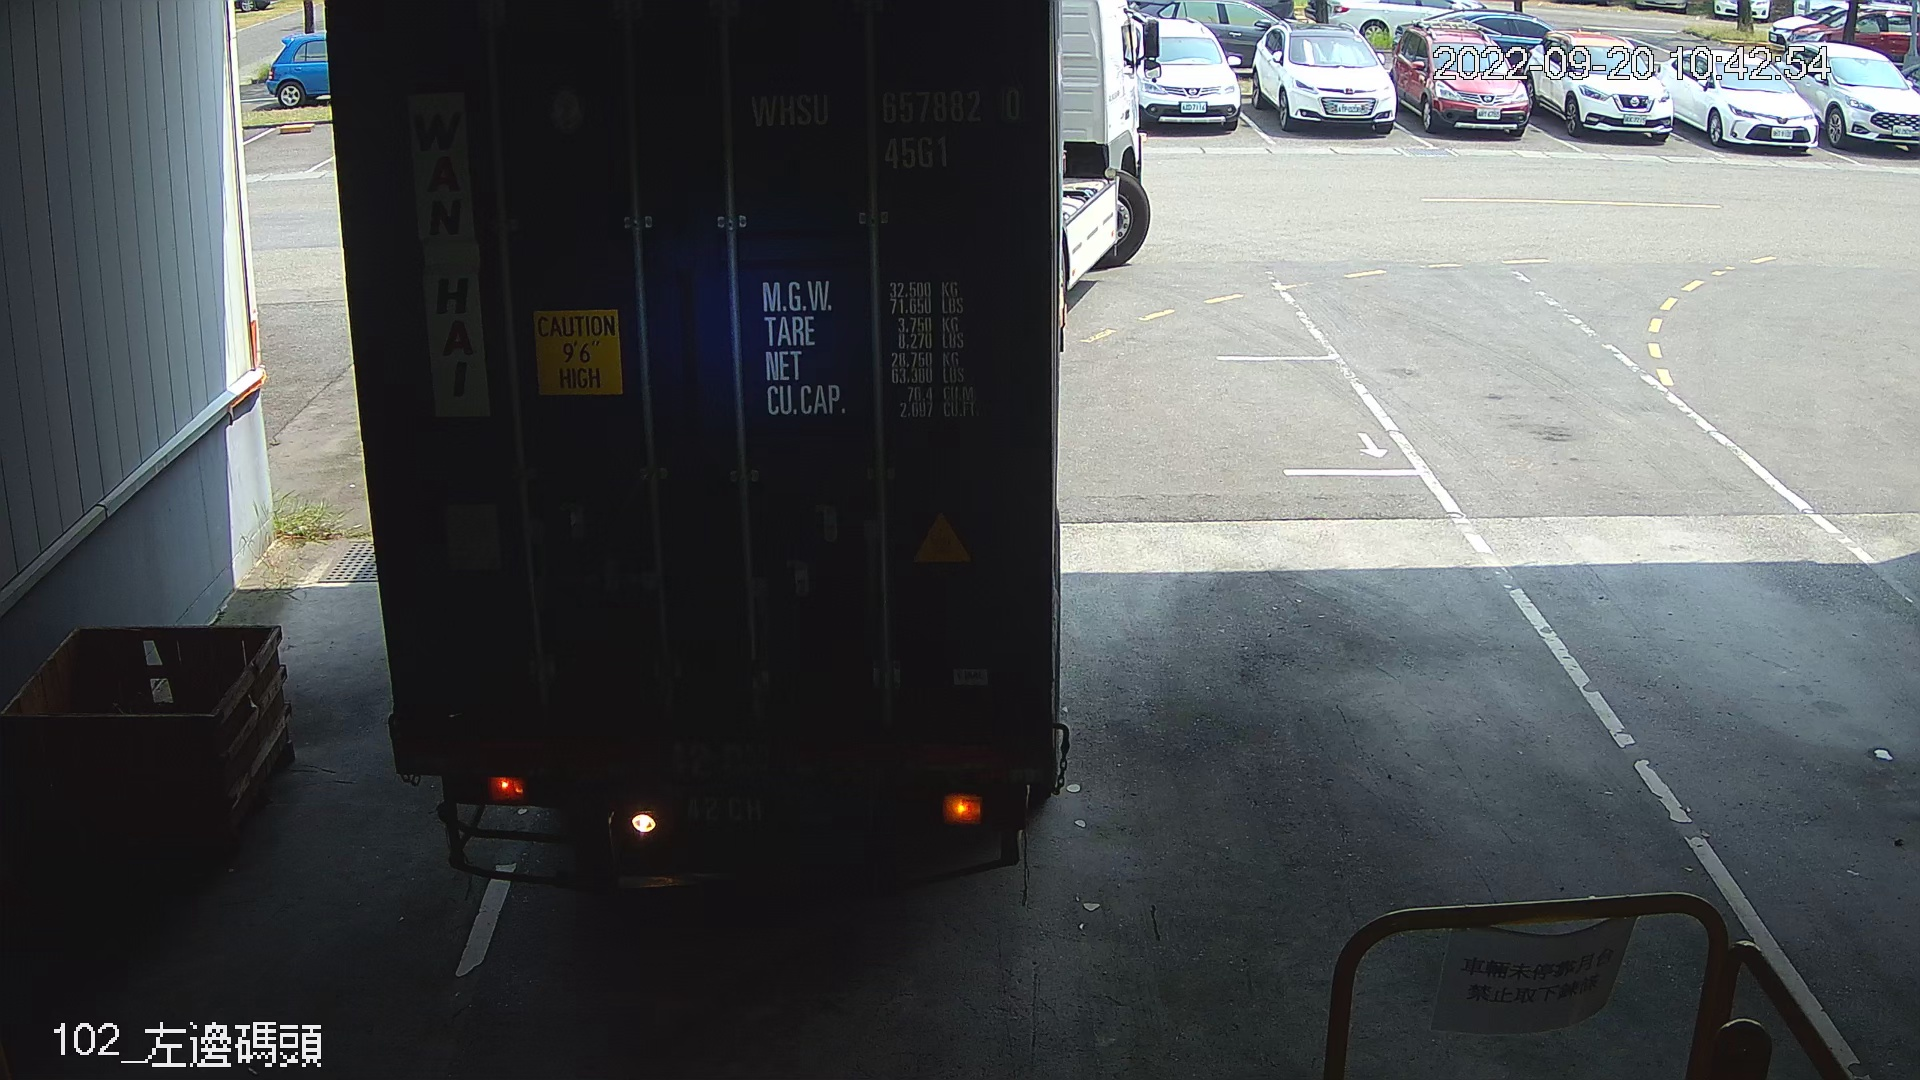container: (735, 79, 1035, 182)
